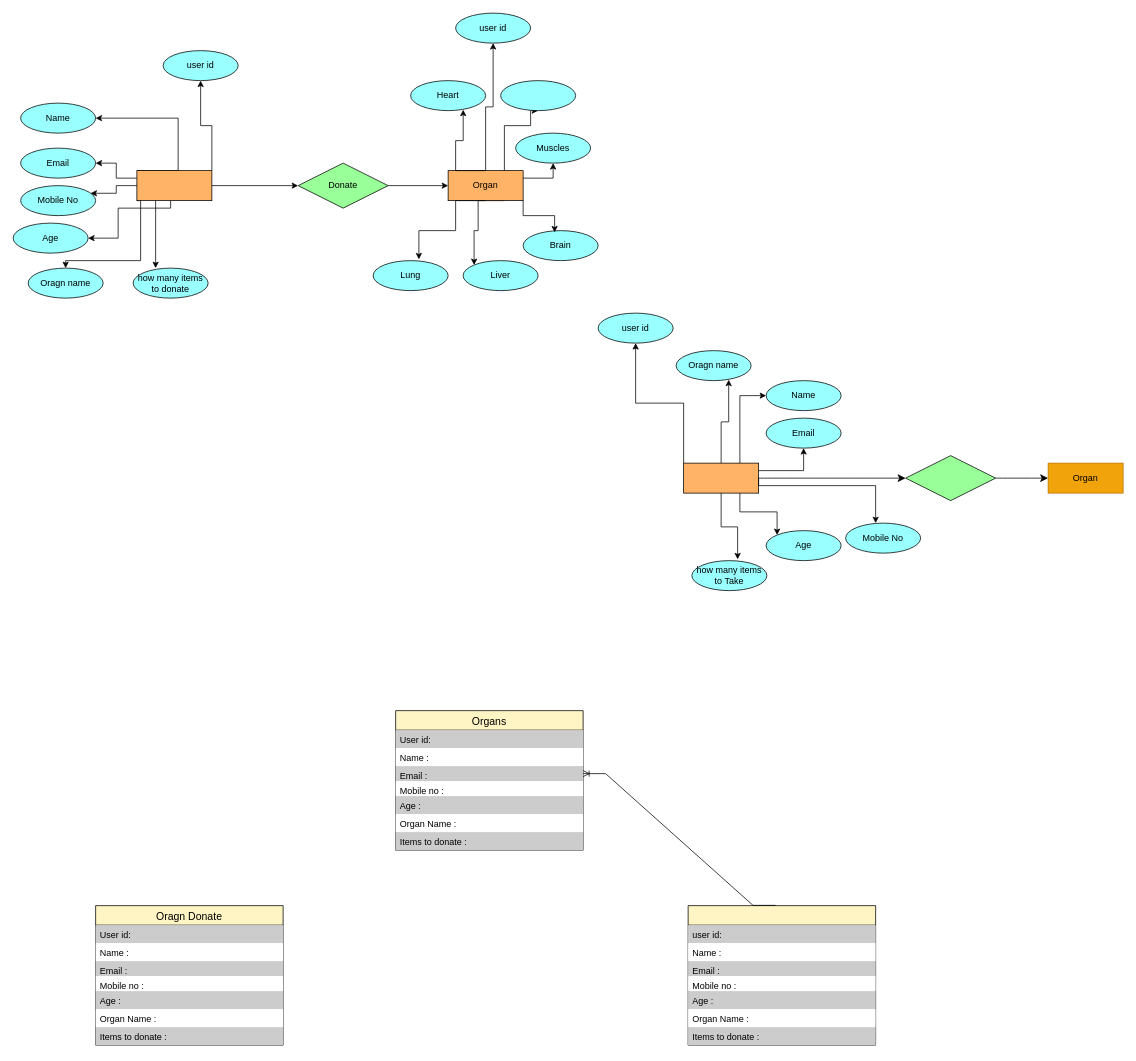
This 1136x1061 diagram has some shape labels left out. Each missing label, with the box of its shape:
Donor: (136, 170, 212, 201)
Kidney: (500, 80, 576, 111)
Recieve: (905, 455, 996, 501)
Reciever: (683, 462, 759, 493)
Take Oragn: (687, 905, 876, 1045)
